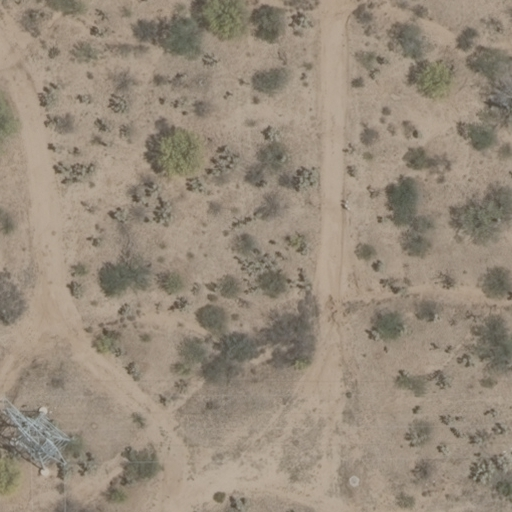TT: (1, 392, 84, 481)
